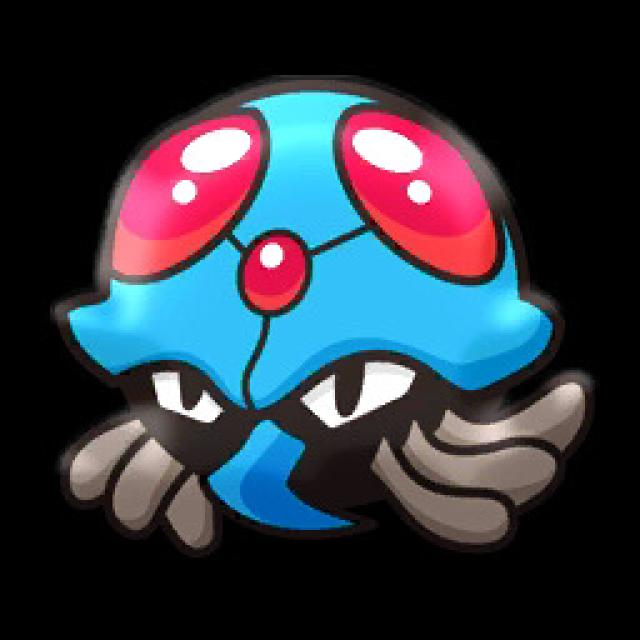Tentacruel: (73, 65, 608, 522)
